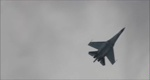maybay_muctieu: (88, 24, 124, 68)
